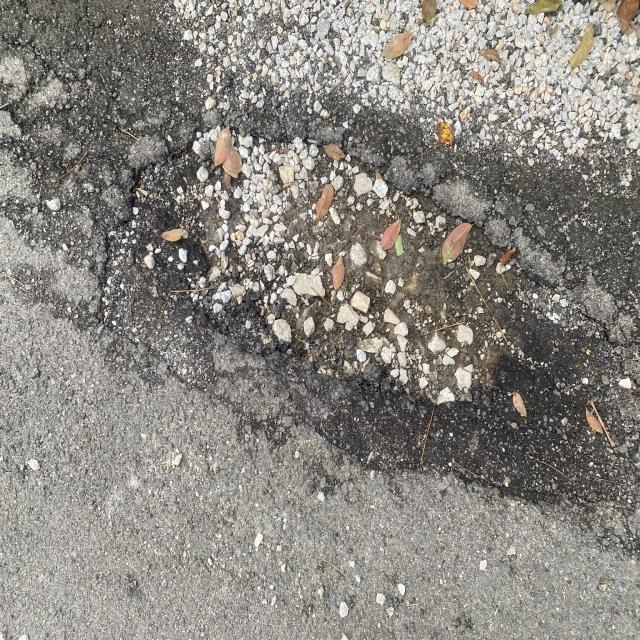Pothole: (82, 78, 562, 469)
